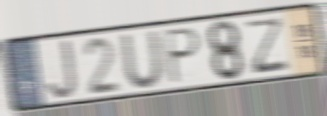2: (82, 35, 121, 97)
8: (207, 19, 245, 82)
J: (45, 38, 79, 101)
P: (164, 25, 203, 87)
U: (118, 28, 167, 90)
Z: (246, 15, 290, 77)
